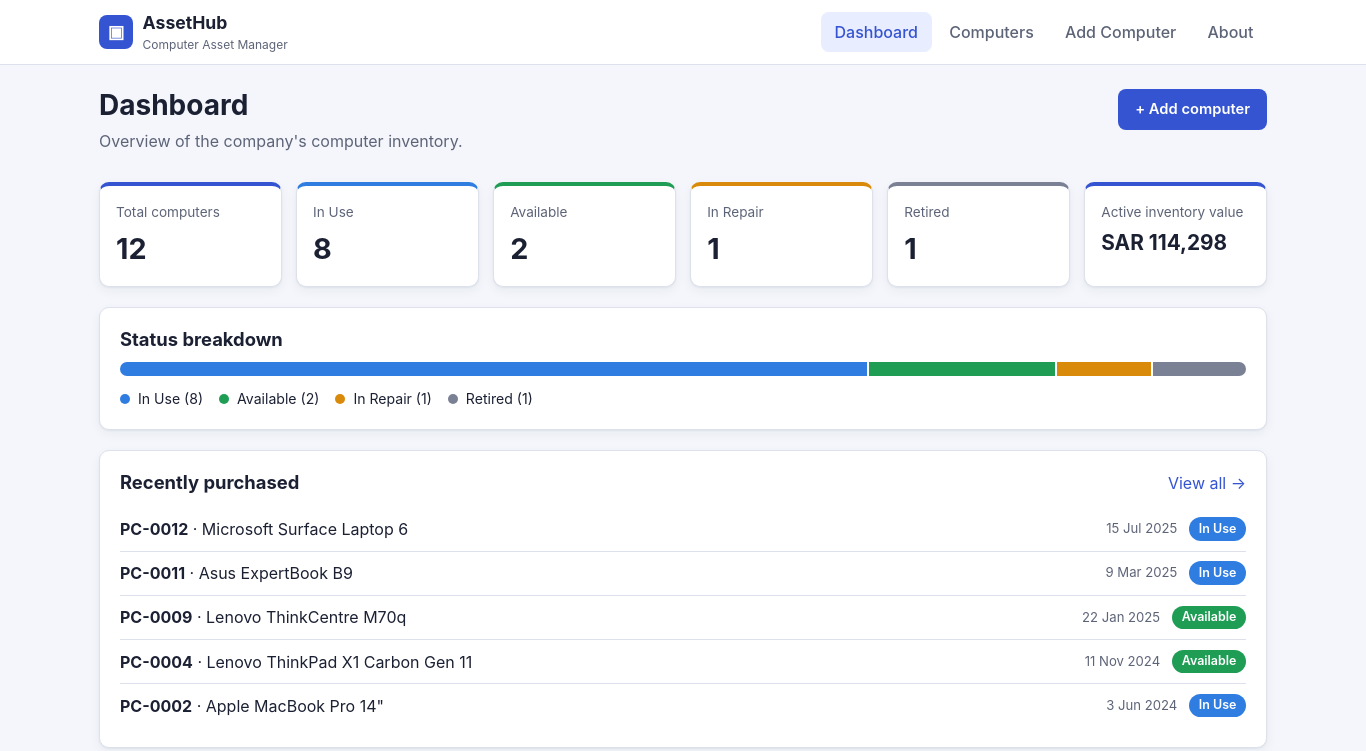
navigation menu › navigates between pages
Expected: the heading "Dashboard" is shown, [99,88,248,122]
Click the link "Computers".
click(992, 32)  # box [949,22,1034,42]
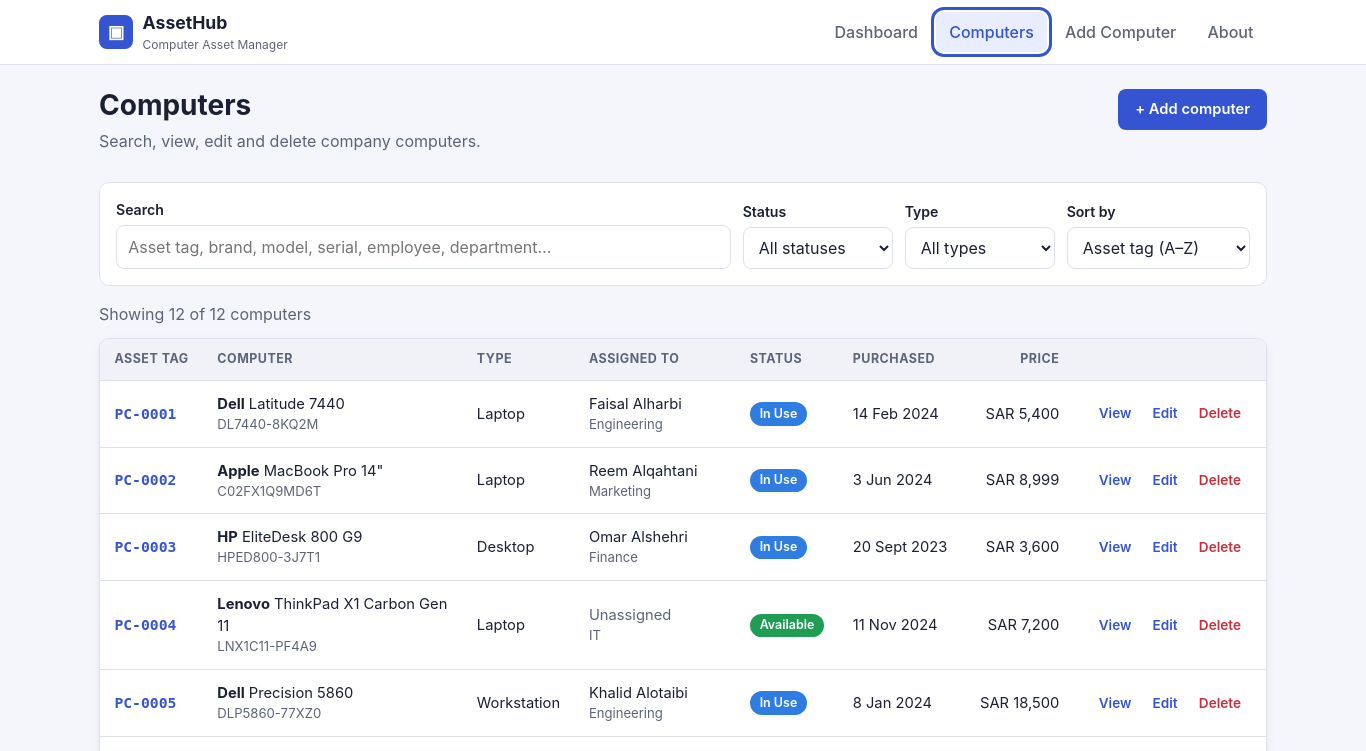
Expected: the heading "Computers" is shown, [99,88,251,122]
Click the link "Add Computer".
click(1121, 32)  # box [1065,22,1176,42]
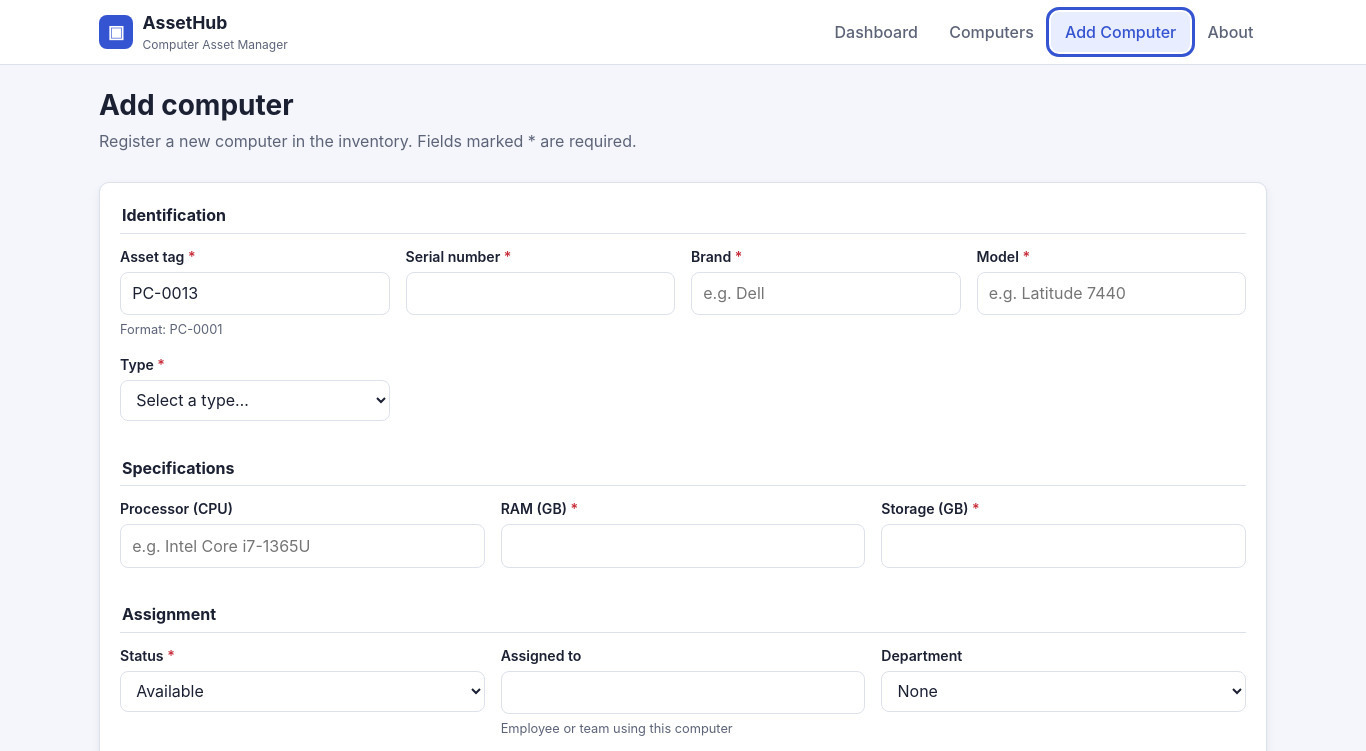
Expected: the heading "Add computer" is shown, [99,88,294,122]
Click the link "About".
click(1230, 32)  # box [1207,22,1253,42]
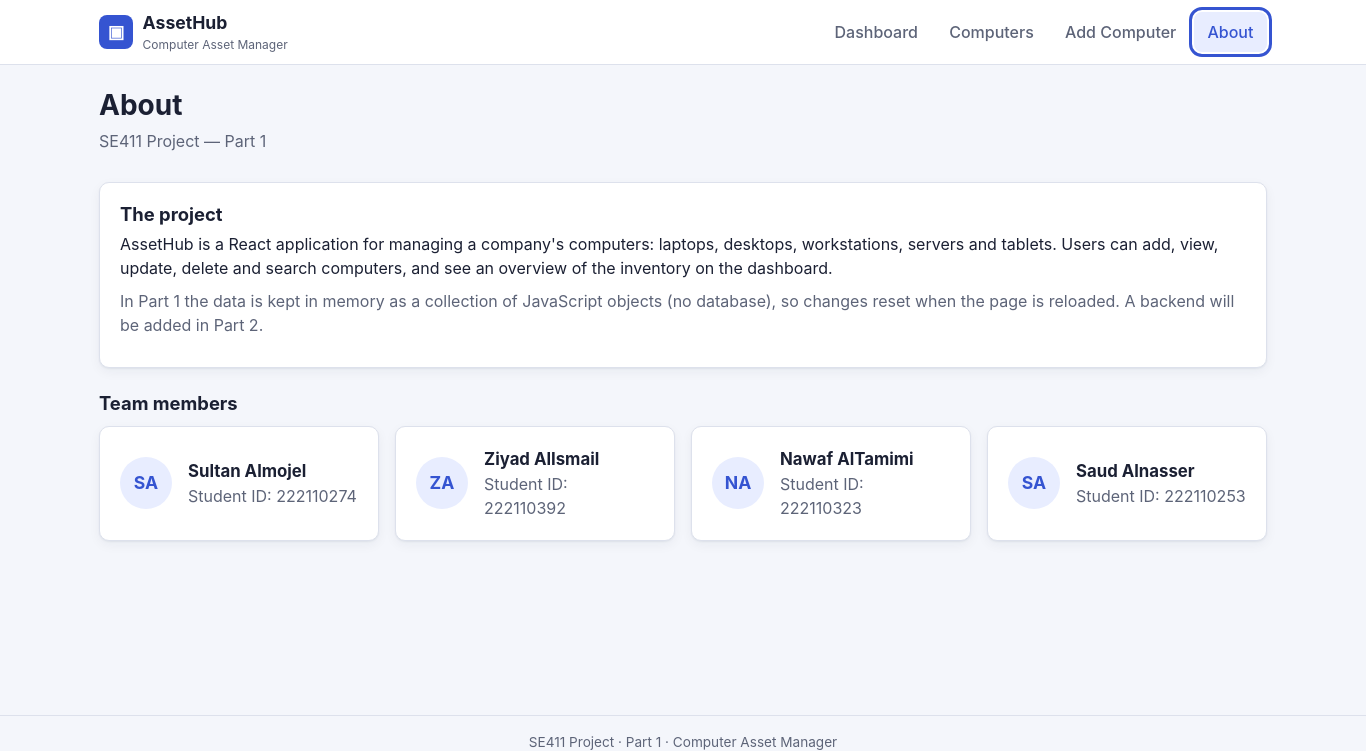
Expected: the heading "About" is shown, [99,88,182,122]
